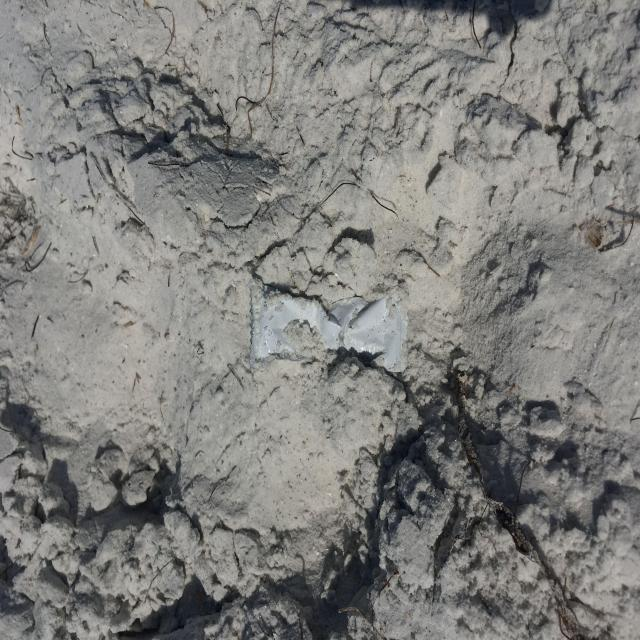litter: (248, 283, 408, 373)
